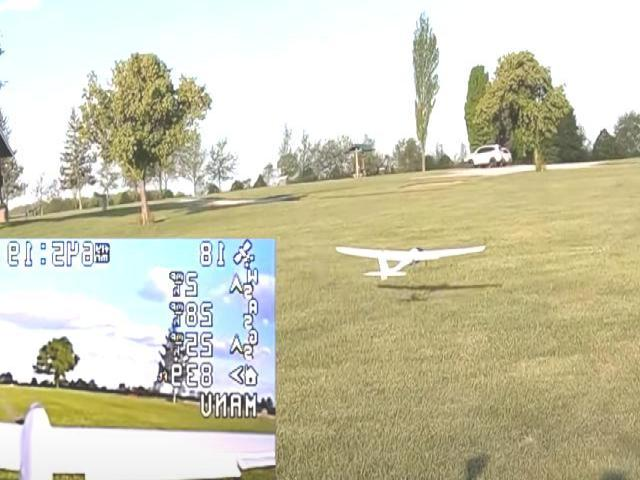iha: (332, 237, 485, 283)
